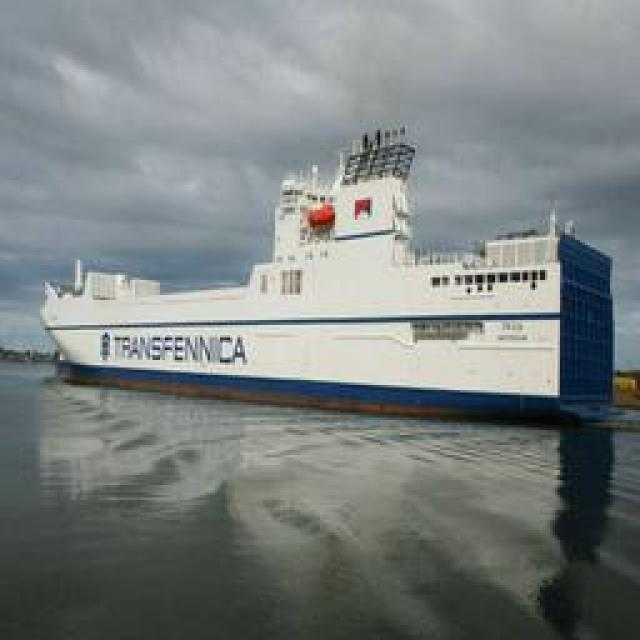CIV_Ship: (42, 151, 626, 414)
